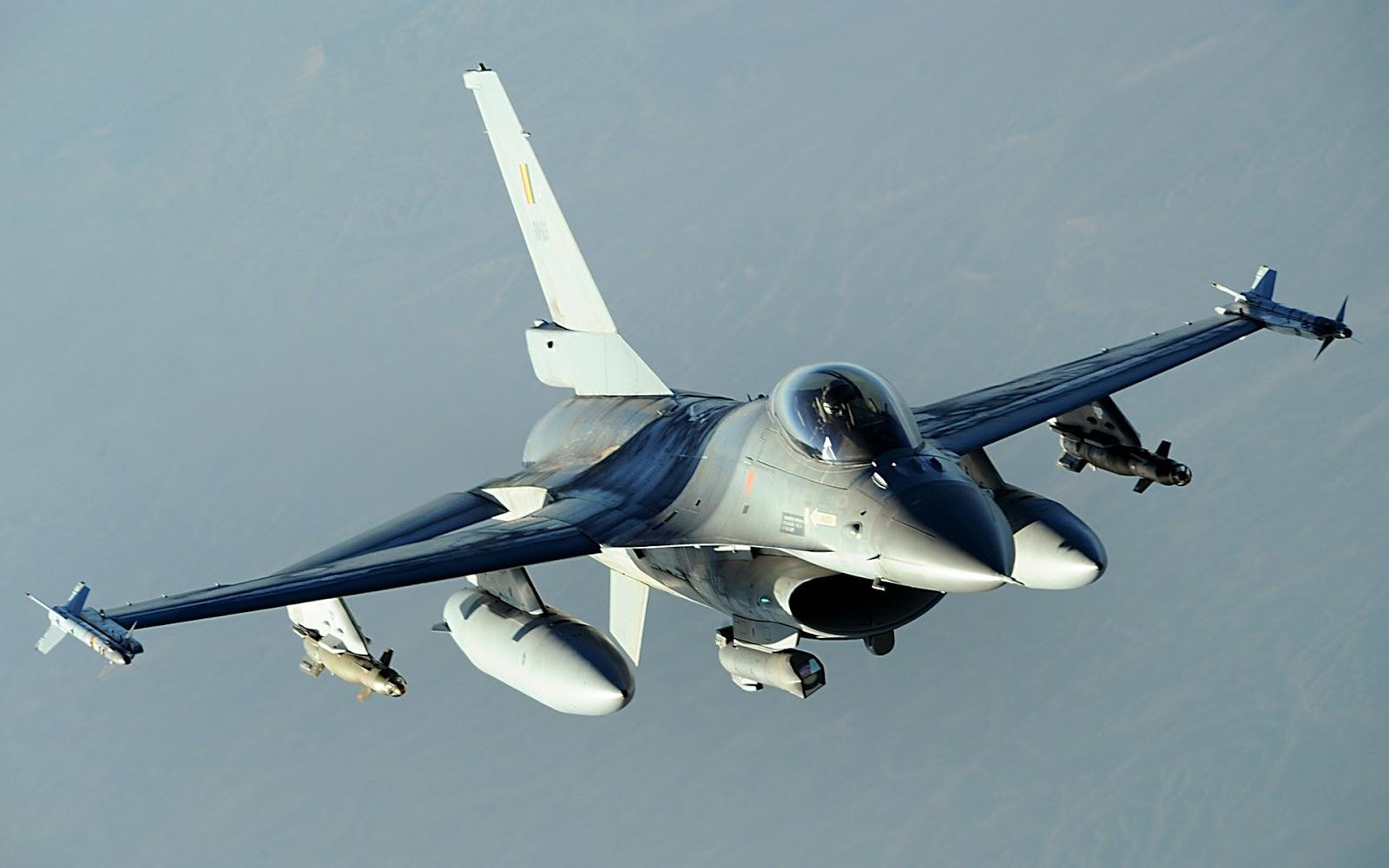aircraft: (40, 63, 1384, 715), (1210, 267, 1356, 358)
